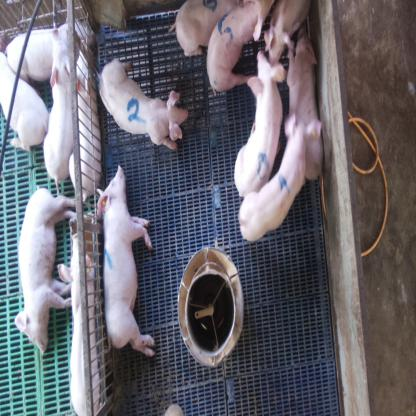1: (277, 174, 290, 197)
5: (217, 15, 234, 49), (126, 97, 145, 125)
N-A: (258, 152, 269, 180)
